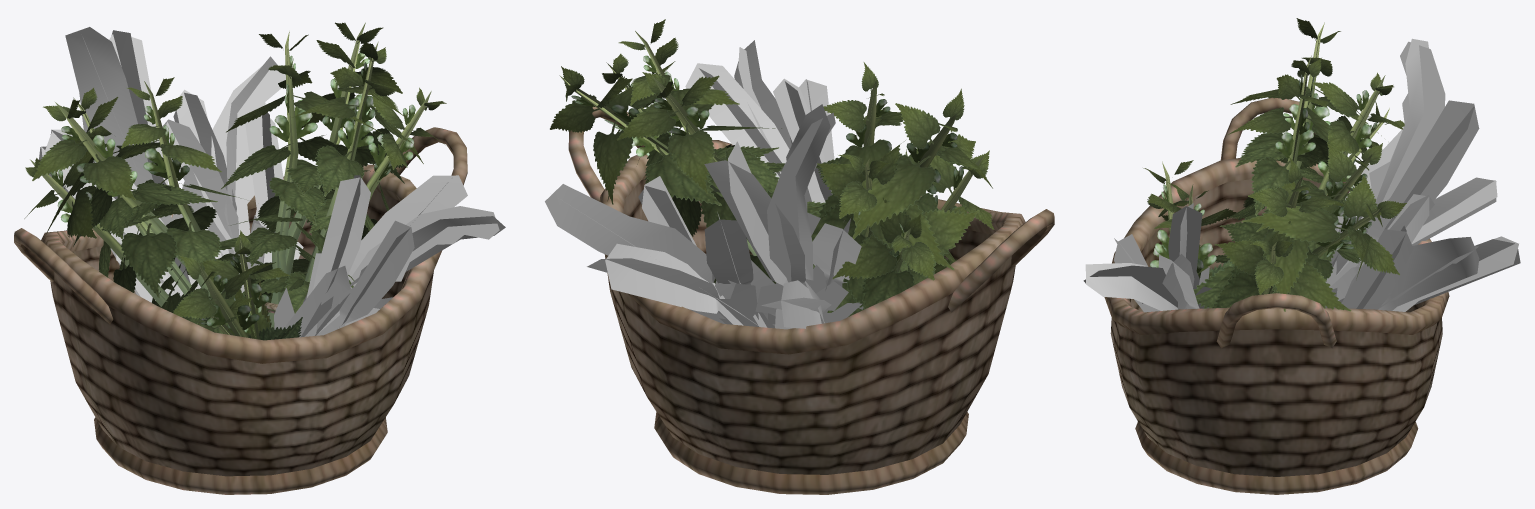
The model's file is village_wicker_basket_with_plants_02.fbx.
3 views of the same model, side by side, from view 1: azimuth 30°, elevation 25°; view 2: azimuth 150°, elevation 25°; view 3: azimuth 270°, elevation 25° (orthographic). The views are drawn at different scales.
Visible parts, largest first — view 1: village_wicker_basket_with_plants_02; view 2: village_wicker_basket_with_plants_02; view 3: village_wicker_basket_with_plants_02.
Boxes of the visible parts, x1=… form: village_wicker_basket_with_plants_02: x1=14, y1=22, x2=505, y2=494; village_wicker_basket_with_plants_02: x1=545, y1=19, x2=1054, y2=494; village_wicker_basket_with_plants_02: x1=1083, y1=18, x2=1520, y2=494.
Size of the model in its own units: 62.37 by 51.7 by 56.73.
